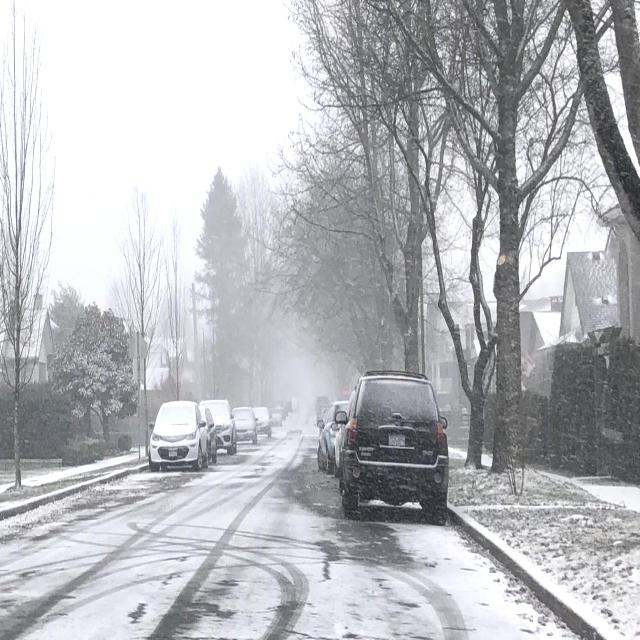Car: (336, 369, 448, 526), (149, 401, 207, 470), (318, 401, 350, 472), (199, 400, 238, 455), (198, 407, 217, 461), (232, 405, 258, 442), (254, 406, 272, 437), (271, 408, 282, 427)
